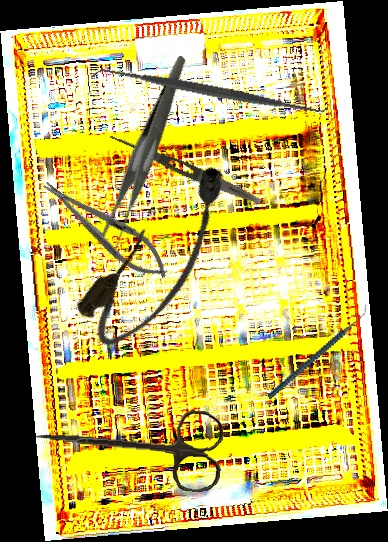Cannula: (67, 153, 258, 361)
Chopper: (249, 301, 386, 401)
Dressing Forceps: (57, 55, 238, 250), (104, 130, 264, 208)
Iris Scissors: (33, 399, 225, 494)
Needle Holder: (34, 168, 178, 290)
Spatula Surgical: (90, 55, 330, 127)
